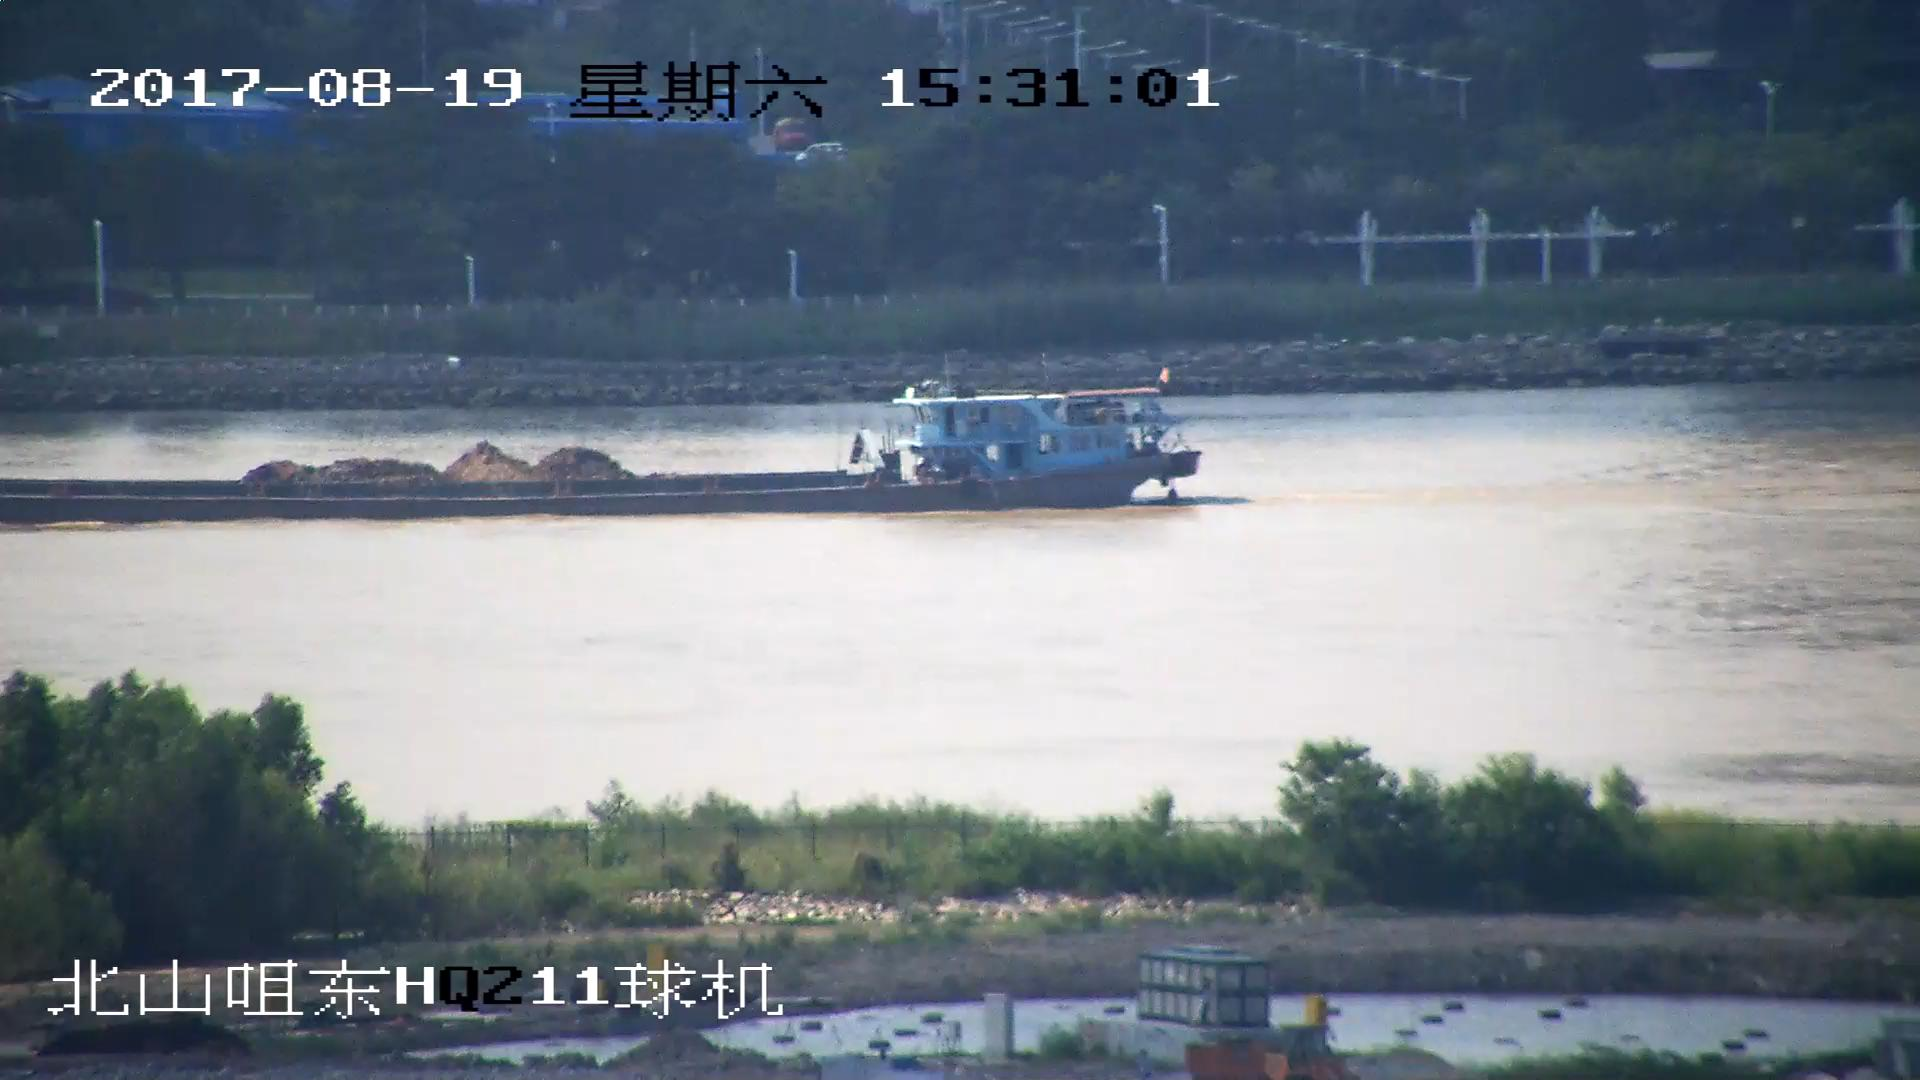ore carrier: (1, 376, 1209, 526)
